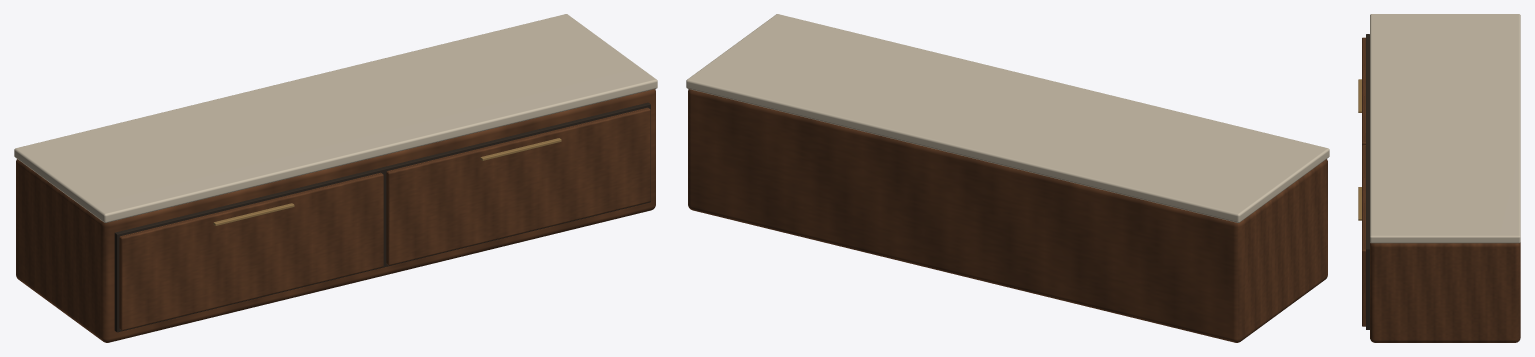
The model's file is reference-tv-console.glb.
3 renders of one model, left to right at view 1: azimuth 30°, elevation 25°; view 2: azimuth 150°, elevation 25°; view 3: azimuth 270°, elevation 25°, orthographic. The views are drawn at different scales.
Parts seen in each view (by area): view 1: Travertine top, Walnut drawer, Walnut drawer.001, Floating walnut console, Dark drawer inset; view 2: Floating walnut console, Travertine top; view 3: Travertine top, Floating walnut console, Dark drawer inset, Walnut drawer.001, Walnut drawer.
Part boxes in pixels (x1,y1,x2,y2): Travertine top: [14, 14, 657, 222]; Walnut drawer: [119, 172, 383, 330]; Walnut drawer.001: [386, 107, 650, 265]; Floating walnut console: [16, 89, 655, 342]; Dark drawer inset: [114, 102, 650, 332]; Floating walnut console: [688, 89, 1327, 342]; Travertine top: [686, 14, 1329, 222]; Travertine top: [1370, 14, 1520, 243]; Floating walnut console: [1370, 242, 1520, 342]; Dark drawer inset: [1366, 34, 1369, 329]; Walnut drawer.001: [1362, 145, 1365, 326]; Walnut drawer: [1362, 37, 1365, 145].
Size of the model in its own units: 1.12 by 0.254 by 0.3445.
Materials: 5 (1 with a texture image).
